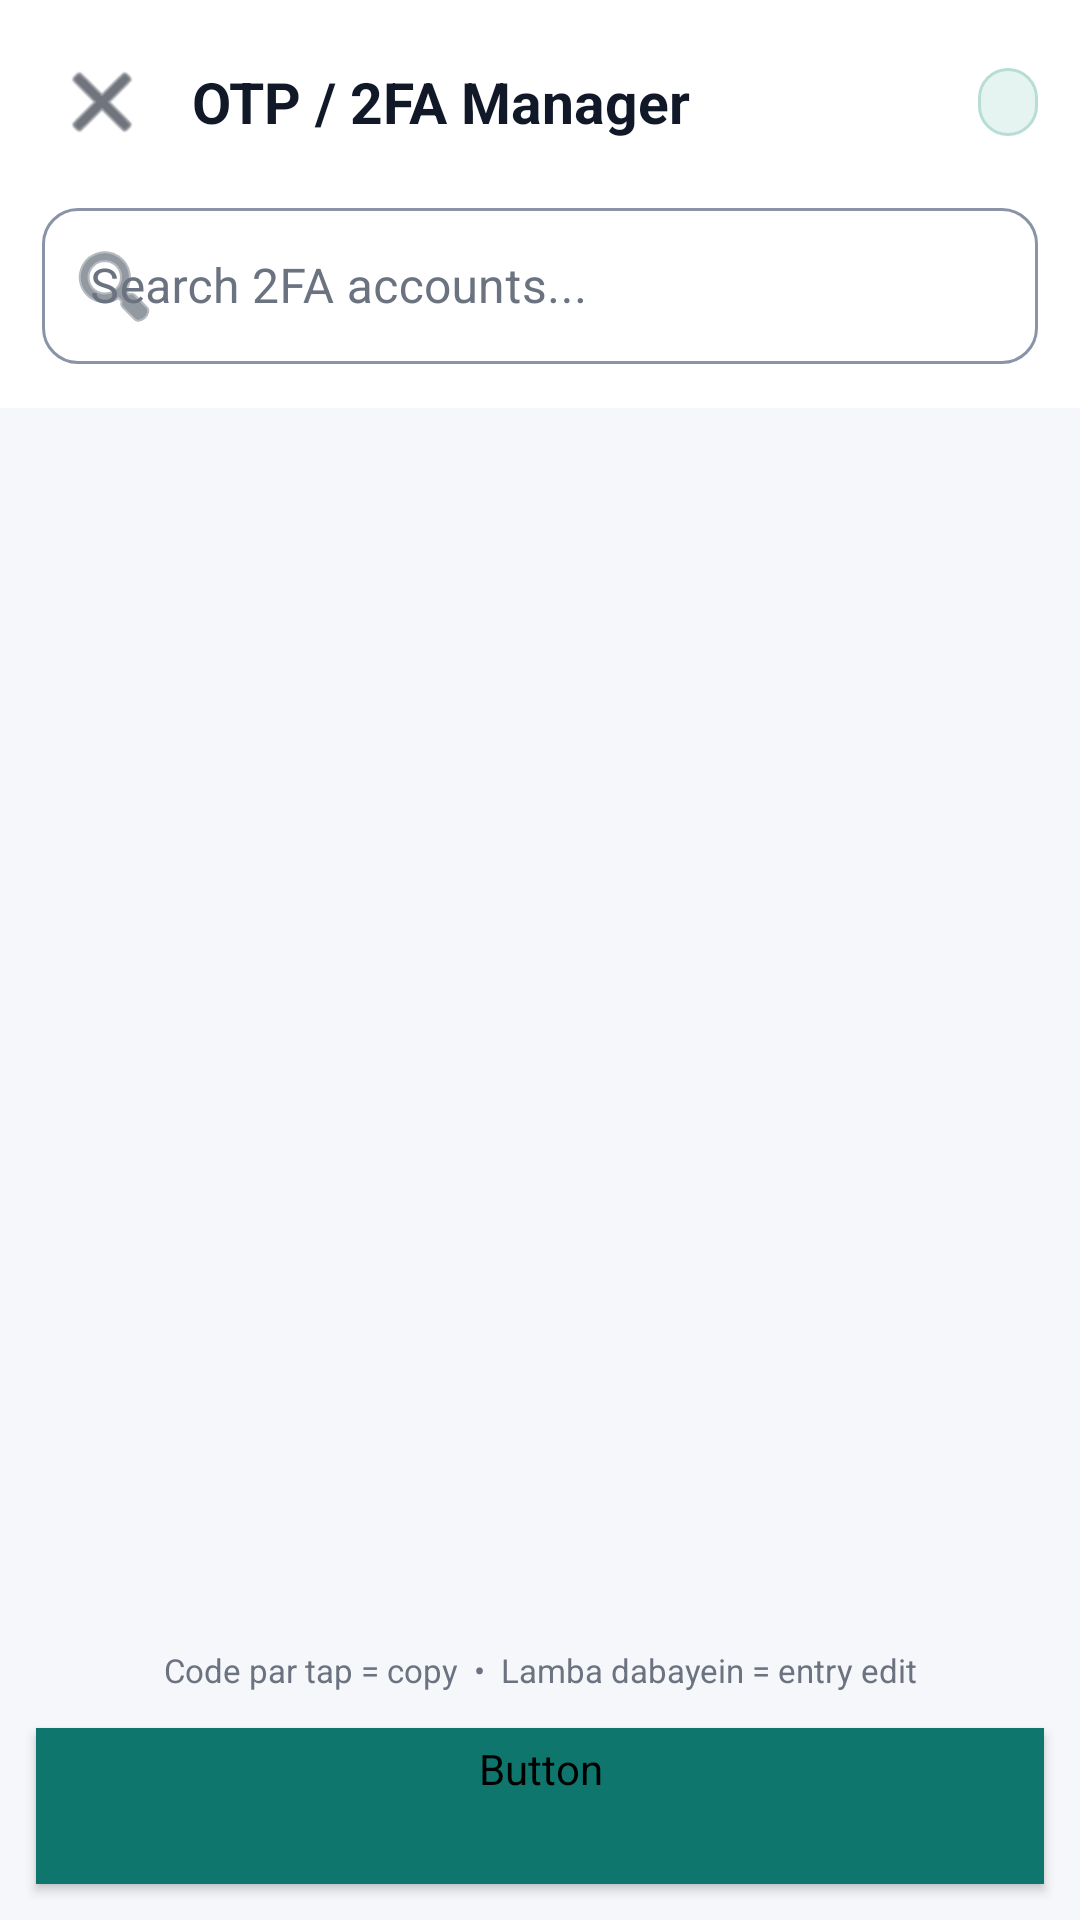

Screen size 1080x1920. Icon name, then its box in pixels as (x1, y1, x2, y2):
Back: (72, 72, 132, 132)
